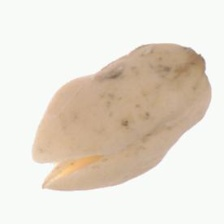L1: (31, 146, 79, 189), (186, 45, 209, 80)
L2: (32, 42, 212, 192)
